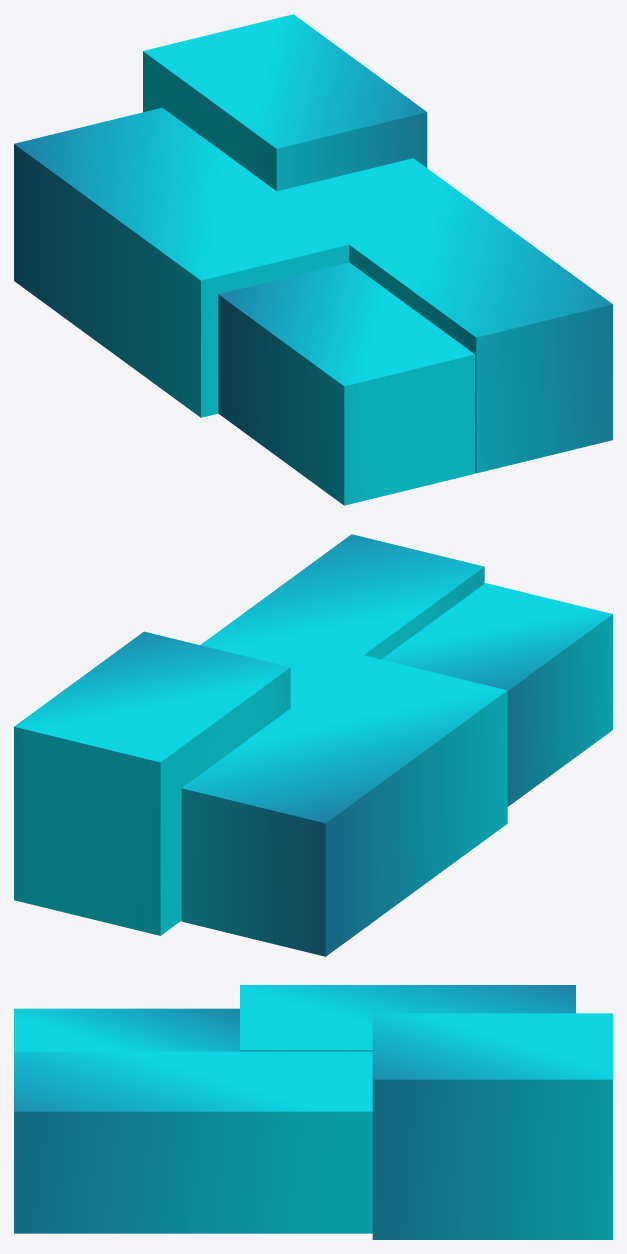
File: EFT0310009.fbx
3 renders of one model, top to bottom at view 1: azimuth 30°, elevation 25°; view 2: azimuth 150°, elevation 25°; view 3: azimuth 270°, elevation 25°, orthographic. The views are drawn at different scales.
Parts seen in each view (by area): view 1: smEFT0310009; view 2: smEFT0310009; view 3: smEFT0310009.
Part boxes in pixels (bbox=[...]): smEFT0310009: bbox=[14, 14, 612, 505]; smEFT0310009: bbox=[14, 534, 612, 956]; smEFT0310009: bbox=[14, 985, 612, 1239].
Size of the model in its own units: 108 by 61.51 by 208.
1 material, 1 textured.
